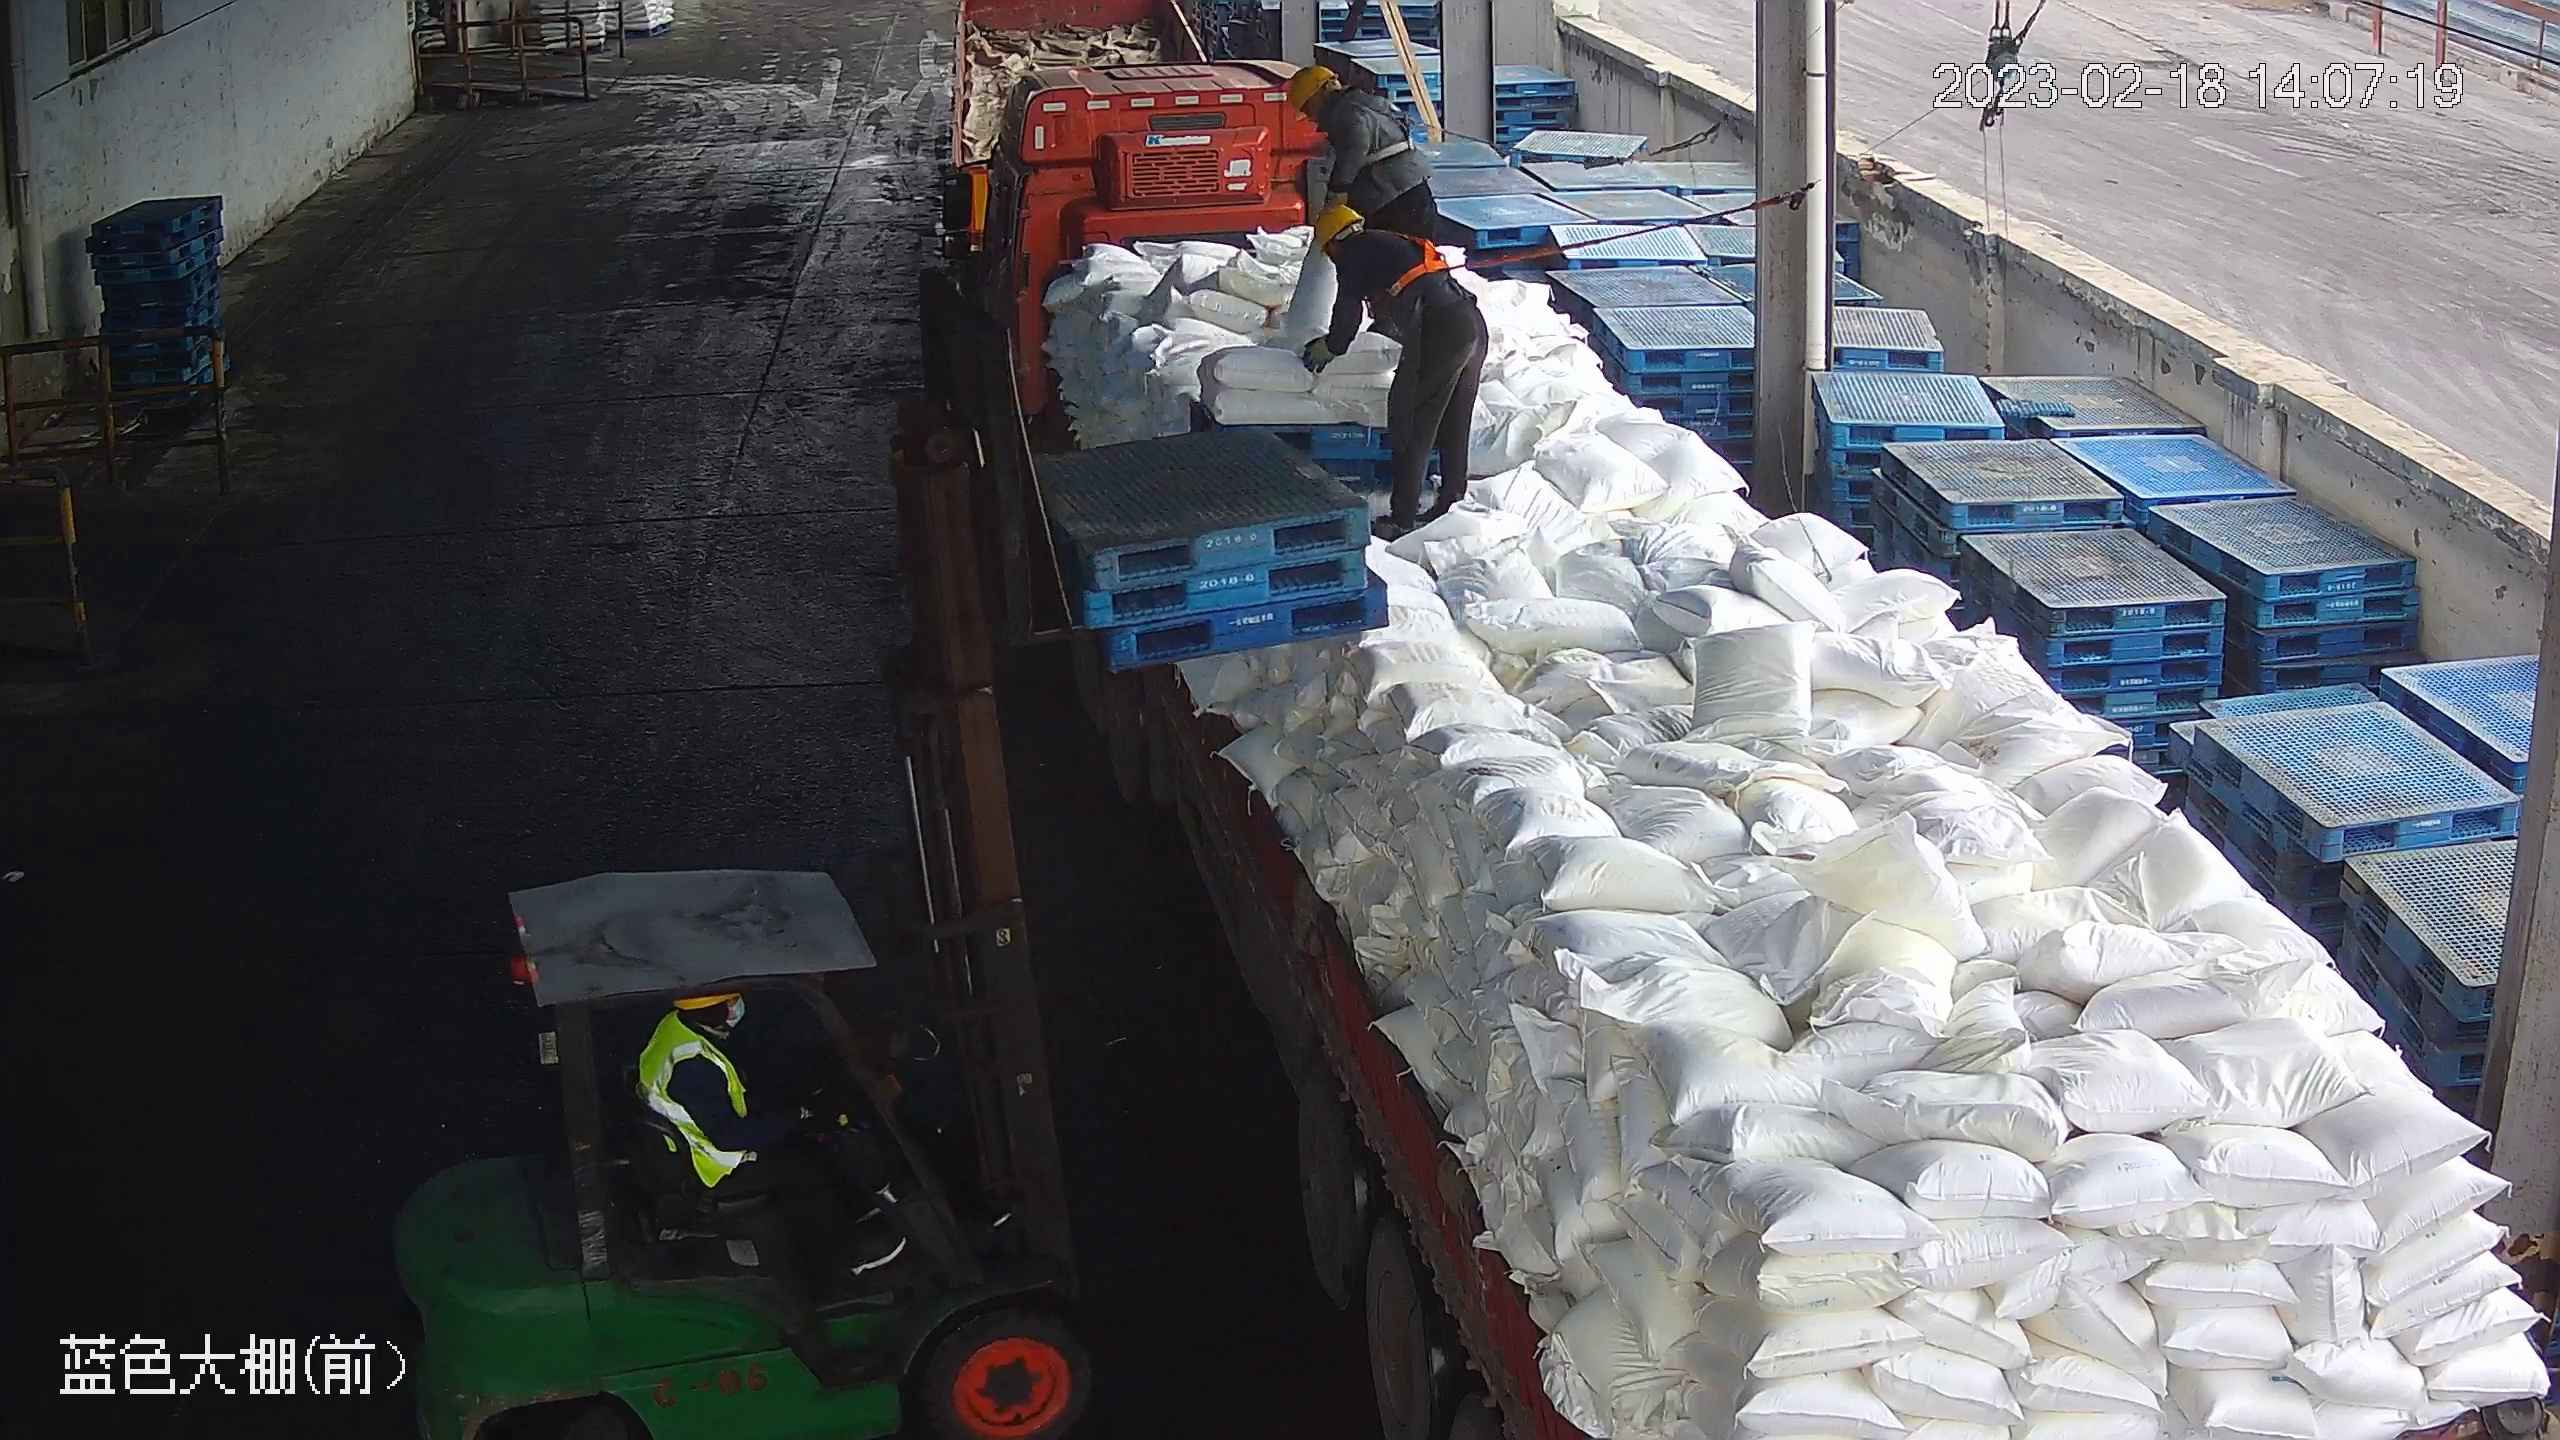belt: (1373, 223, 1495, 298), (1349, 94, 1434, 169)
head: (1312, 202, 1434, 306), (1289, 64, 1399, 166)
helmet: (1287, 65, 1343, 123), (1313, 203, 1368, 256)
people: (647, 982, 935, 1291), (1302, 203, 1495, 549), (1289, 65, 1439, 240)
truck: (913, 50, 2560, 1440)
